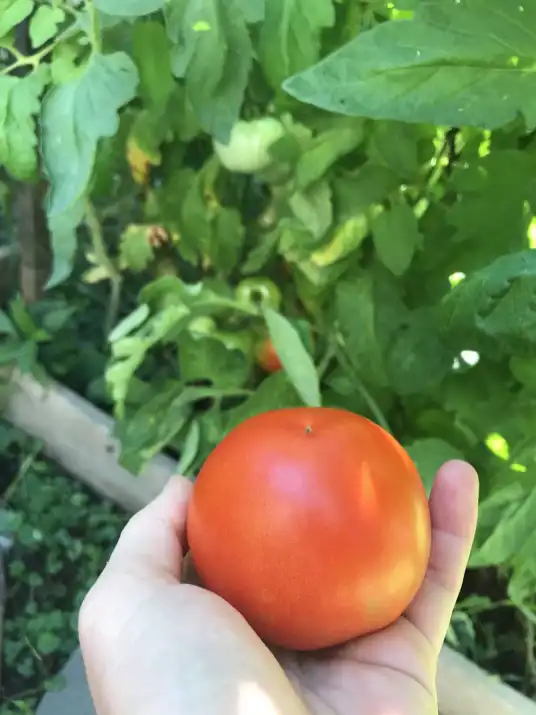tomato: (184, 377, 488, 646)
